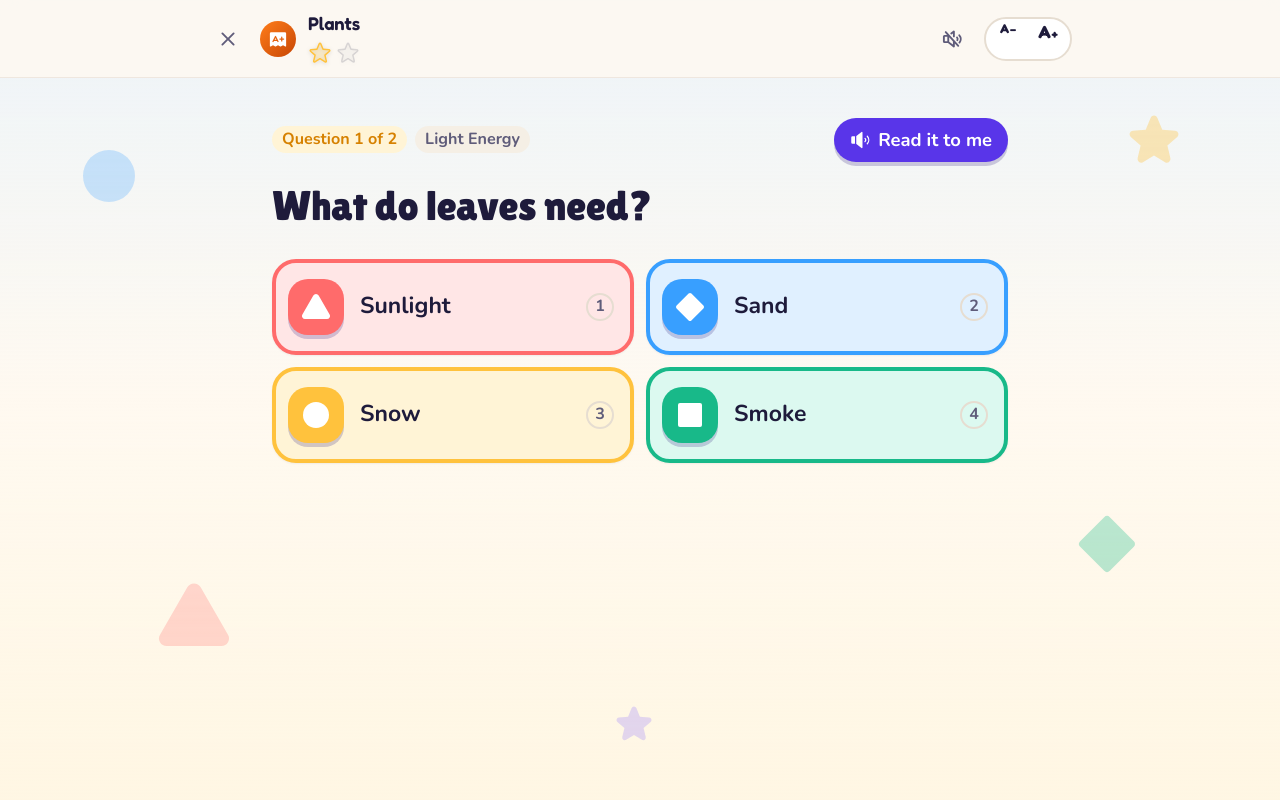
Test: a quiz in each look › gives the youngest a star path and a cheer in their own words
What coordinates should you click on to do the following:
click the button "Sunlight 1"
I would click on:
 (453, 306)
Its box is [272, 258, 634, 354].
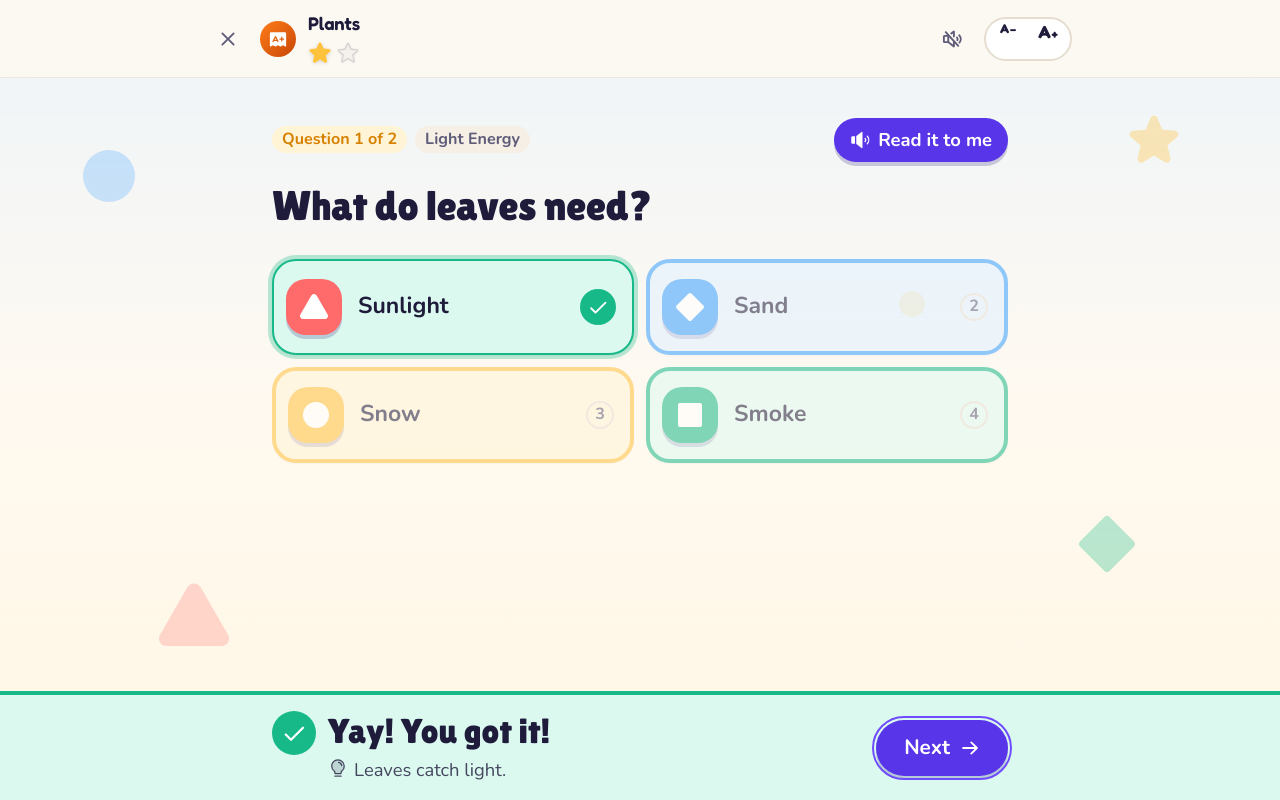
Check: the text "Yay! You got it!" is shown, box [328, 711, 550, 752]
